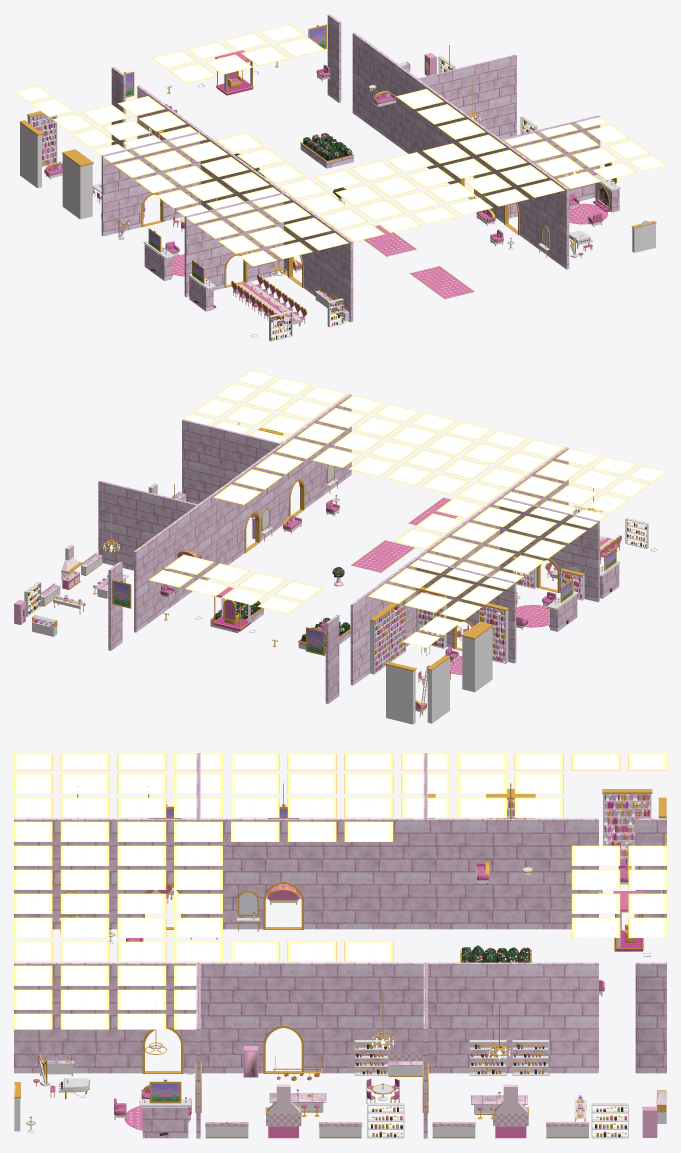
File: citadel_floor0.glb
The picture shows the model from 3 angles, top to bottom: view 1: azimuth 30°, elevation 25°; view 2: azimuth 150°, elevation 25°; view 3: azimuth 270°, elevation 25°; orthographic projection. The views are drawn at different scales.
Visible parts, largest first — view 1: floor0_sky_cards, floor0_trim, floor0_white_wood, floor0_gold, floor0_carpet, floor0_tufted, floor0_hedge, floor0_satin_rose, floor0_satin_pink, floor0_satin_blush; view 2: floor0_sky_cards, floor0_trim, floor0_white_wood, floor0_gold, floor0_carpet, floor0_tufted, floor0_satin_pink, floor0_satin_blush, floor0_satin_rose, floor0_velvet, floor0_satin_white, floor0_hedge (+1 smaller); view 3: floor0_trim, floor0_sky_cards, floor0_white_wood, floor0_gold, floor0_satin_rose, floor0_tile, floor0_satin_pink, floor0_tufted, floor0_satin_blush, floor0_hedge, floor0_velvet.
Part boxes in pixels (x1=…): floor0_sky_cards: x1=14, y1=24, x2=666, y2=266; floor0_trim: x1=101, y1=14, x2=619, y2=322; floor0_white_wood: x1=20, y1=56, x2=655, y2=341; floor0_gold: x1=19, y1=24, x2=656, y2=340; floor0_carpet: x1=172, y1=204, x2=606, y2=298; floor0_tufted: x1=44, y1=65, x2=603, y2=324; floor0_hedge: x1=234, y1=61, x2=533, y2=339; floor0_satin_rose: x1=38, y1=50, x2=608, y2=337; floor0_satin_pink: x1=31, y1=53, x2=436, y2=317; floor0_satin_blush: x1=31, y1=66, x2=528, y2=325; floor0_sky_cards: x1=149, y1=370, x2=666, y2=647; floor0_trim: x1=31, y1=394, x2=619, y2=703; floor0_white_wood: x1=24, y1=429, x2=657, y2=724; floor0_gold: x1=20, y1=418, x2=646, y2=713; floor0_carpet: x1=352, y1=497, x2=549, y2=673; floor0_tufted: x1=93, y1=499, x2=621, y2=709; floor0_satin_pink: x1=14, y1=516, x2=610, y2=666; floor0_satin_blush: x1=32, y1=483, x2=641, y2=668; floor0_satin_rose: x1=30, y1=503, x2=644, y2=676; floor0_velvet: x1=75, y1=572, x2=581, y2=671; floor0_satin_white: x1=45, y1=539, x2=611, y2=666; floor0_hedge: x1=28, y1=523, x2=646, y2=645; floor0_trim: x1=14, y1=753, x2=666, y2=1138; floor0_sky_cards: x1=14, y1=754, x2=666, y2=1029; floor0_white_wood: x1=14, y1=794, x2=666, y2=1138; floor0_gold: x1=14, y1=783, x2=666, y2=1138; floor0_satin_rose: x1=116, y1=794, x2=649, y2=1138; floor0_tile: x1=205, y1=1053, x2=588, y2=1125; floor0_satin_pink: x1=243, y1=794, x2=663, y2=1137; floor0_tufted: x1=33, y1=862, x2=628, y2=1115; floor0_satin_blush: x1=151, y1=810, x2=643, y2=1120; floor0_hedge: x1=356, y1=945, x2=626, y2=1137; floor0_velvet: x1=490, y1=794, x2=649, y2=951.
Size of the model in its own units: 46.48 by 8.55 by 46.
28 materials, 14 textured.
